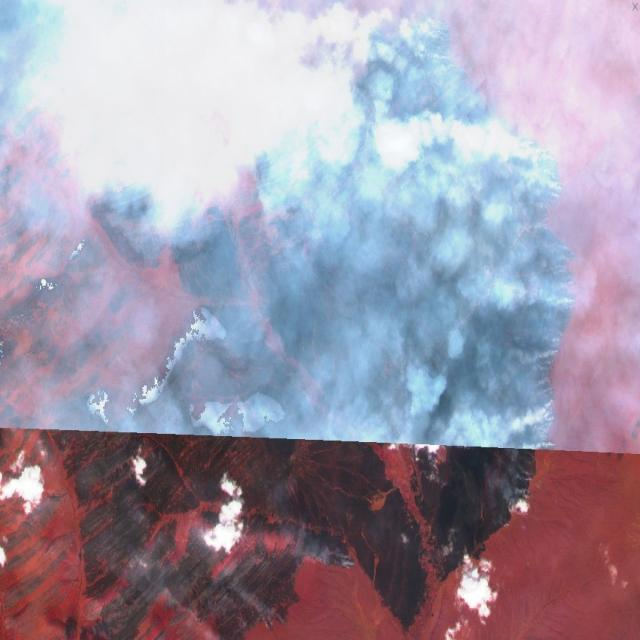fire: (483, 118, 586, 454), (345, 7, 479, 79)
